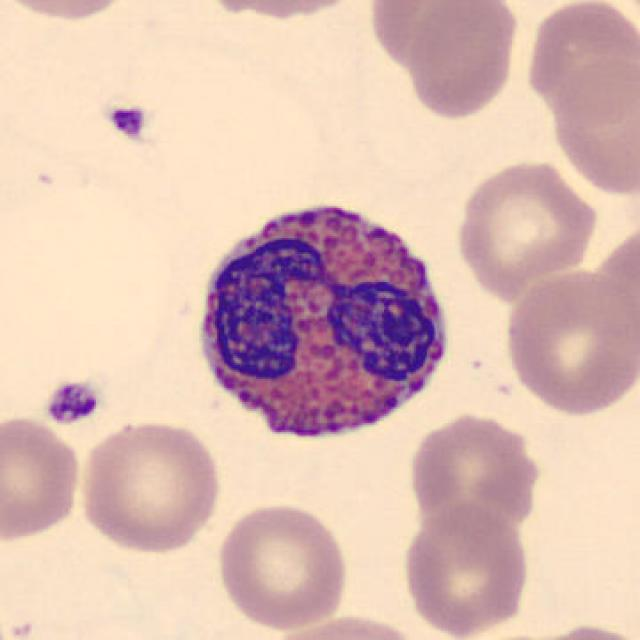Eosinophil: (182, 182, 462, 464)
Platelets: (41, 376, 103, 428), (103, 99, 151, 143)
RBC: (451, 155, 601, 300), (499, 264, 636, 418), (75, 416, 224, 557), (213, 499, 352, 633), (398, 502, 534, 638), (405, 407, 544, 536), (400, 0, 524, 122), (520, 0, 638, 123), (544, 51, 638, 201), (0, 412, 85, 544), (364, 0, 511, 72), (263, 612, 425, 640), (192, 0, 373, 21), (0, 0, 142, 25), (524, 620, 638, 640)
